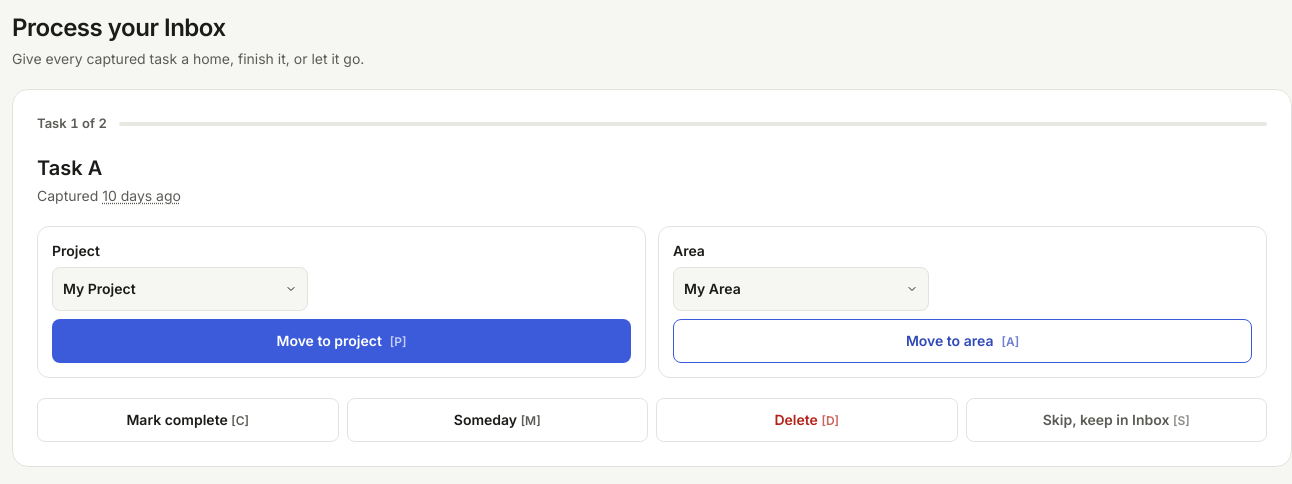
Scenario: InboxStep — safety › a second click while the first is still saving does not act twice
What coordinates should you click on to do the following:
click the button "Mark complete [C]"
I would click on:
 (188, 420)
Its box is x1=37 y1=398 x2=338 y2=442.
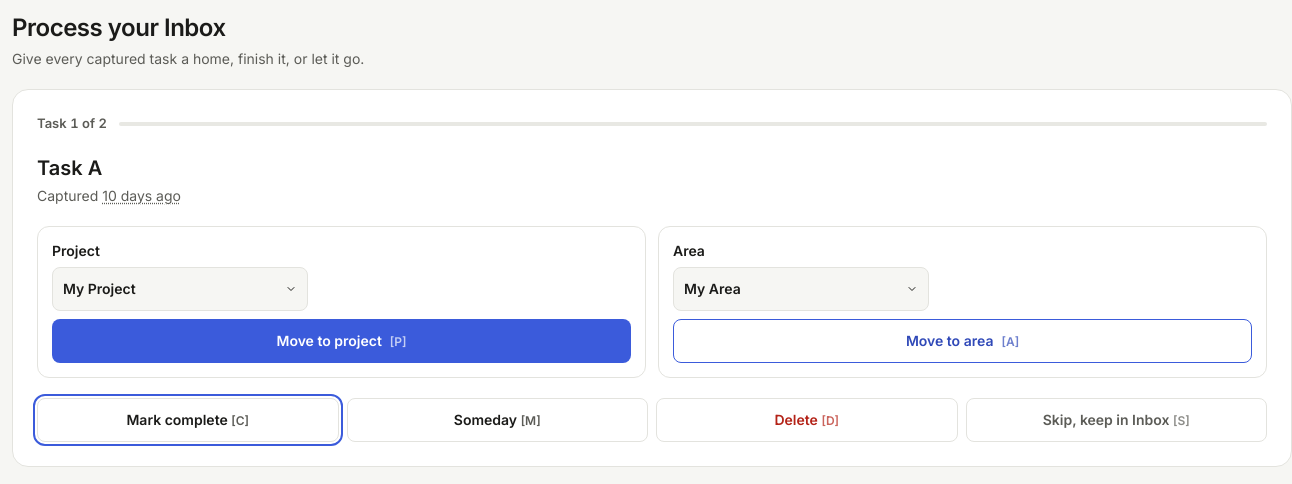
What coordinates should you click on to do the following:
click the button "Mark complete [C]"
I would click on:
 (188, 420)
Its box is x1=37 y1=398 x2=338 y2=442.
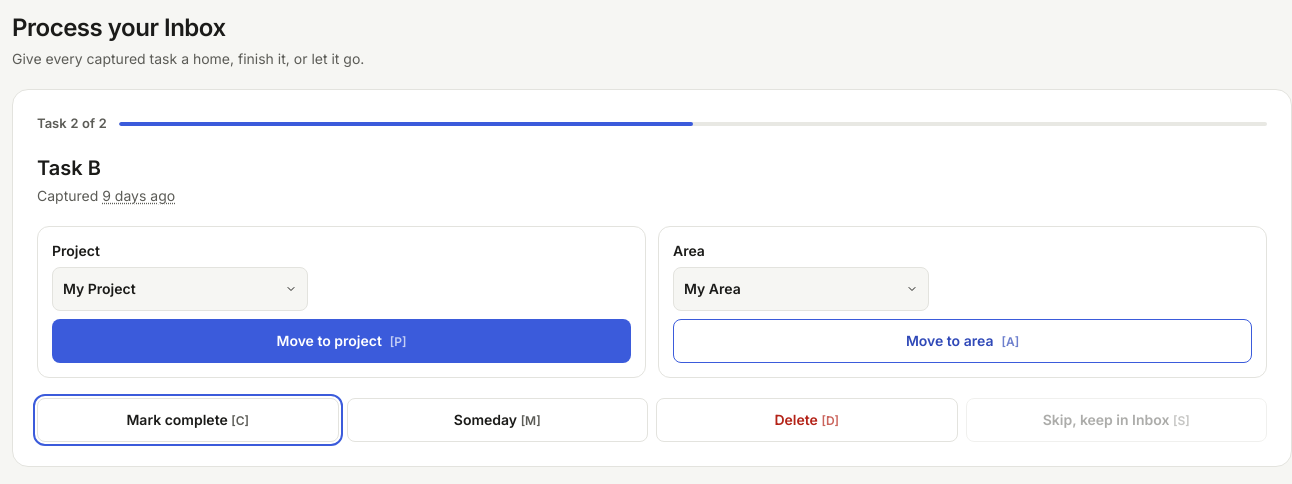
Expected: the heading "Task B" is shown, x1=37 y1=156 x2=101 y2=180
